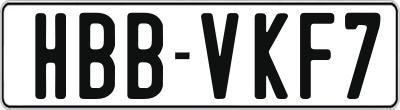7: (342, 12, 380, 103)
B: (78, 10, 119, 99), (126, 13, 167, 102)
F: (300, 11, 338, 101)
H: (34, 10, 70, 96)
K: (254, 12, 293, 104)
V: (200, 13, 244, 102)
